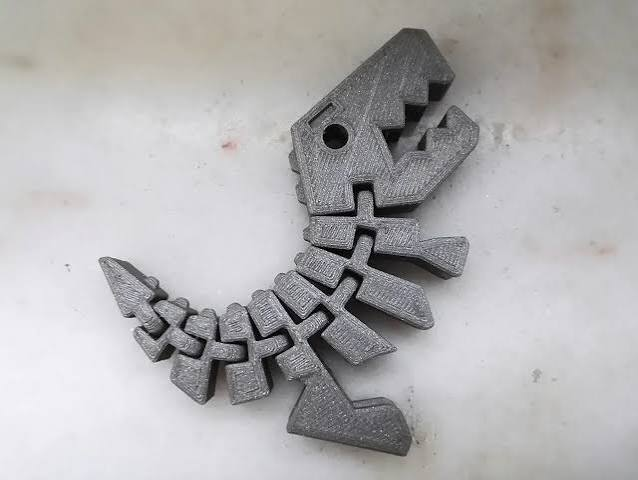3d print: (100, 29, 477, 454)
